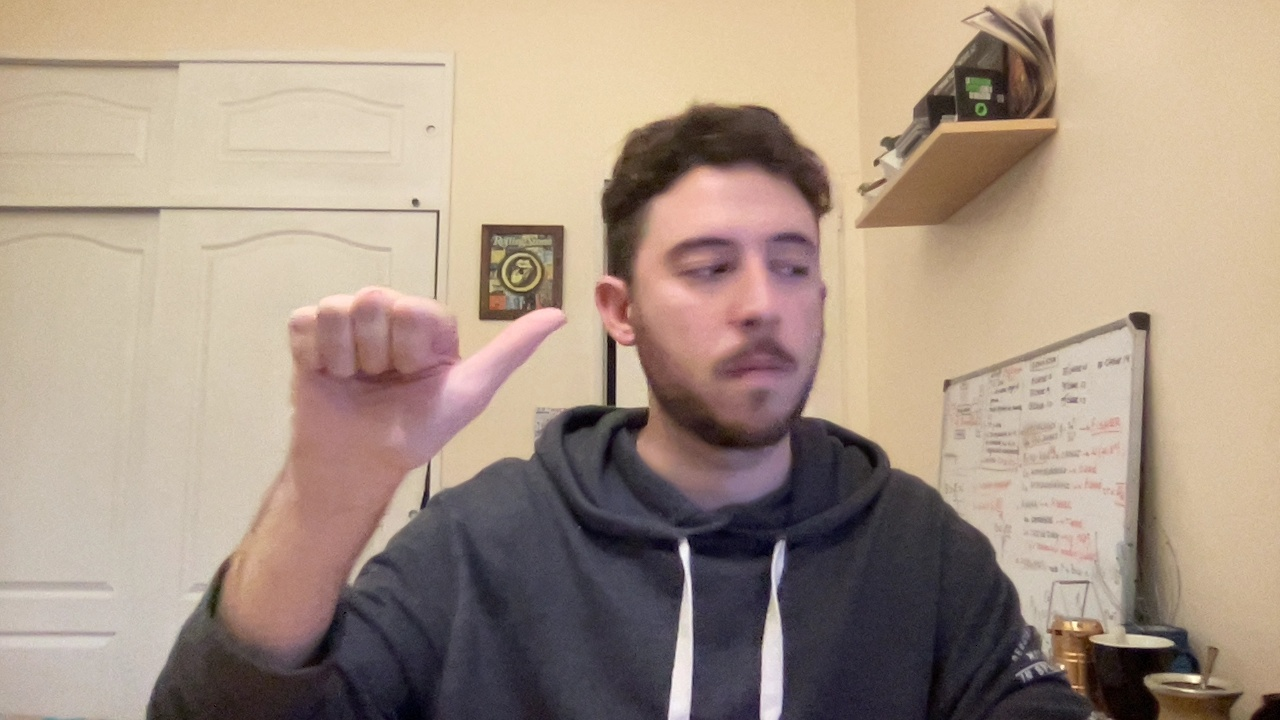pulgar: (238, 256, 577, 473)
